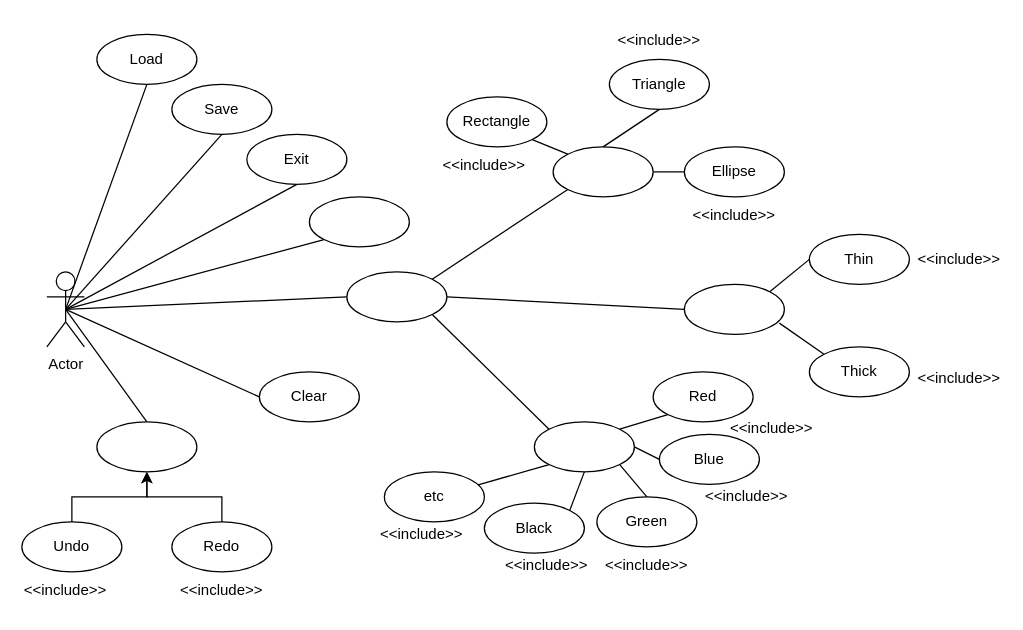
Image size: 1023x630. Some labels were removed from this diagram. Each missing label, with the box of its shape:
Color: (533, 421, 634, 472)
Draw: (346, 271, 447, 322)
Edit: (96, 421, 197, 472)
Erase: (308, 196, 409, 247)
Shape: (552, 146, 653, 197)
Thickness: (683, 283, 784, 334)
